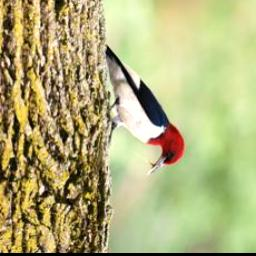Woodpecker: (107, 46, 186, 175)
